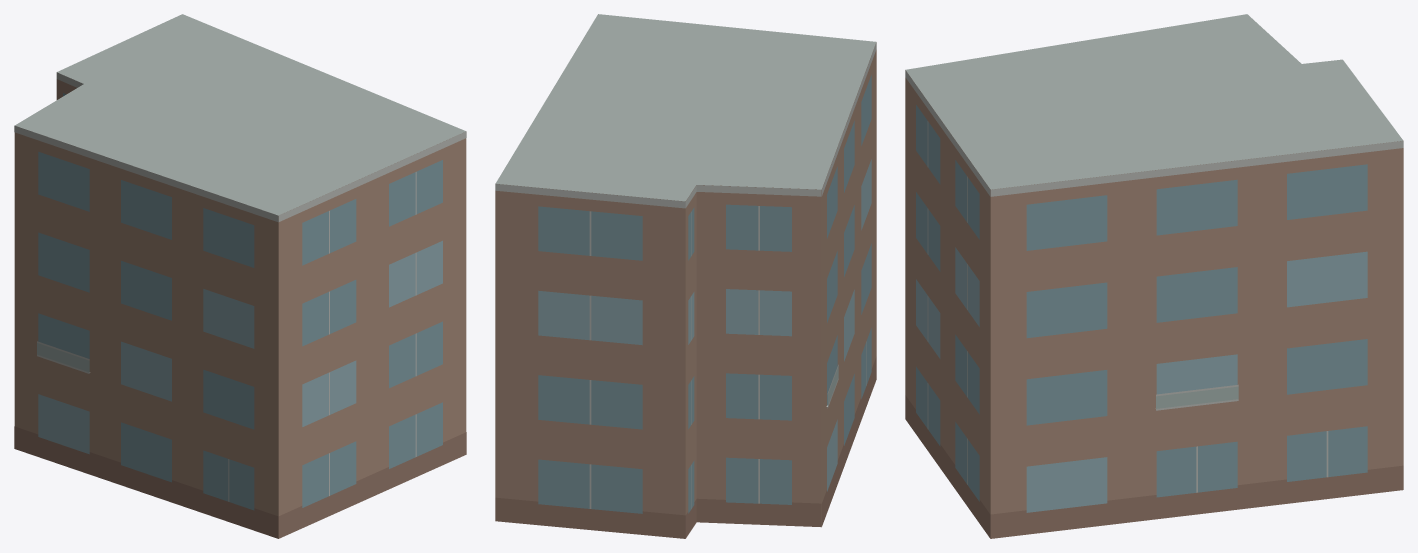
Rendered from survey-upis-33044790.glb.
3 renders of one model, left to right at view 1: azimuth 30°, elevation 25°; view 2: azimuth 150°, elevation 25°; view 3: azimuth 270°, elevation 25°, orthographic. The views are drawn at different scales.
Parts seen in each view (by area): view 1: survey-upis-33044790.tmp; view 2: survey-upis-33044790.tmp; view 3: survey-upis-33044790.tmp.
Boxes of the visible parts, left/top/right/bottom form: survey-upis-33044790.tmp: left=14, top=14, right=466, bottom=538; survey-upis-33044790.tmp: left=495, top=14, right=876, bottom=538; survey-upis-33044790.tmp: left=905, top=14, right=1403, bottom=538.
Bounding box in the file's own units: 12.62 × 11.7 × 15.14.
